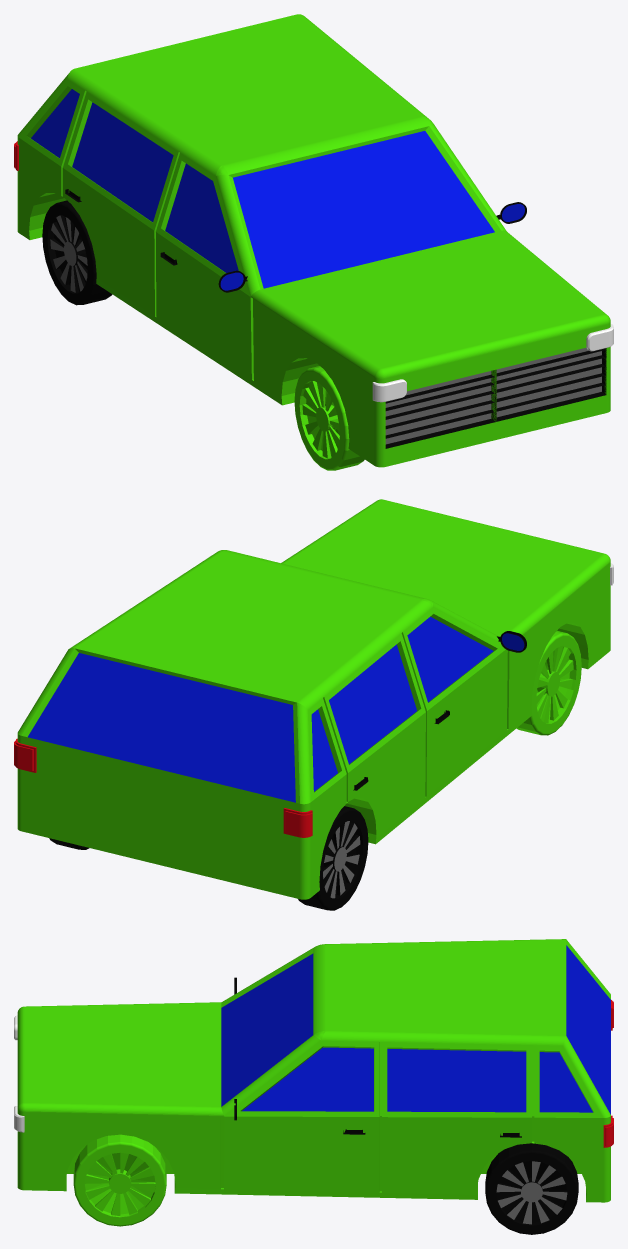
The model's file is Car.glb.
3 views of the same model, one above another, from view 1: azimuth 30°, elevation 25°; view 2: azimuth 150°, elevation 25°; view 3: azimuth 270°, elevation 25° (orthographic). The views are drawn at different scales.
Parts seen in each view (by area): view 1: Cube; view 2: Cube; view 3: Cube.
Part boxes in pixels (left/top/right/bottom): Cube: left=14, top=14, right=613, bottom=470; Cube: left=14, top=499, right=613, bottom=910; Cube: left=14, top=939, right=613, bottom=1234.
Bounding box in the file's own units: 2.1 × 1.39 × 4.01.
